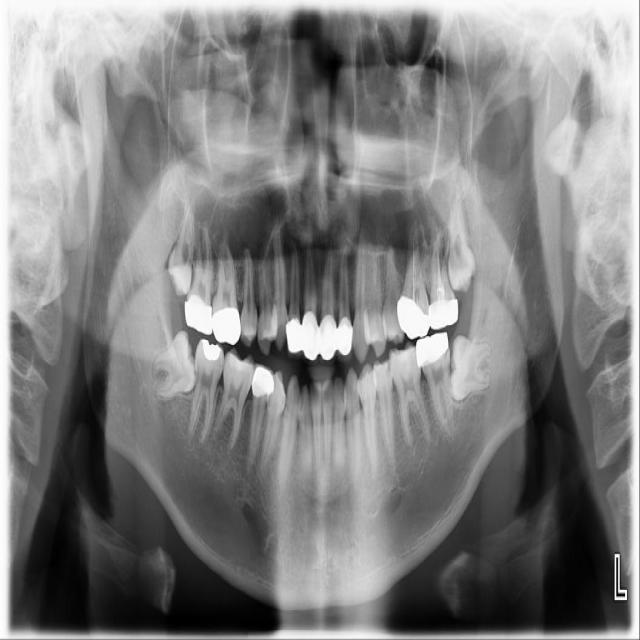Crown: (285, 311, 354, 363), (397, 289, 430, 339), (428, 286, 458, 329), (416, 332, 450, 367), (211, 307, 241, 345), (184, 295, 212, 334), (251, 362, 273, 401)
Filling: (390, 348, 414, 368), (201, 339, 221, 362), (228, 354, 251, 374), (370, 362, 390, 381)
Root Canal Treatment: (433, 231, 441, 294), (412, 223, 417, 303)
impacted tooth: (149, 332, 196, 400), (449, 182, 476, 292), (451, 336, 494, 401), (167, 195, 195, 293)
